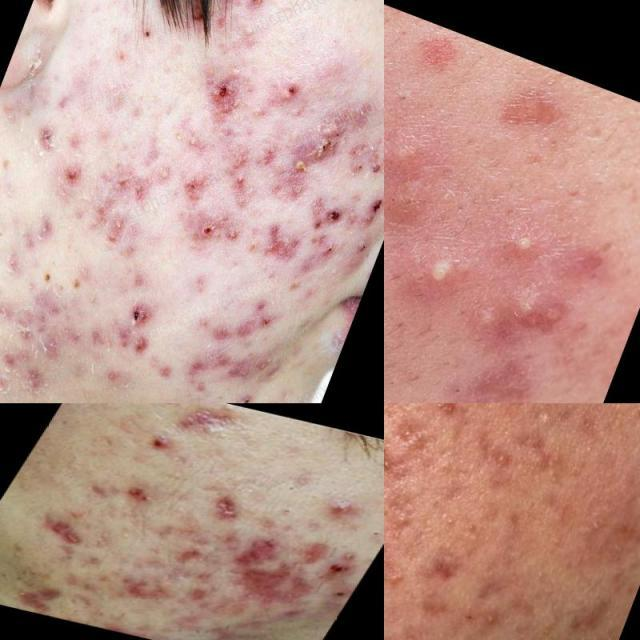Pimples: (270, 83, 376, 202), (55, 161, 157, 271), (172, 327, 292, 403), (202, 272, 296, 358), (5, 281, 84, 364), (491, 284, 585, 352), (240, 212, 320, 290), (110, 288, 180, 371), (478, 217, 554, 289), (228, 560, 314, 620), (409, 238, 466, 304), (170, 404, 258, 446), (416, 534, 473, 596), (108, 566, 182, 610), (158, 533, 228, 577), (289, 530, 345, 578), (225, 528, 285, 572), (202, 486, 256, 530), (28, 510, 88, 548), (466, 438, 521, 479), (265, 471, 323, 504), (76, 472, 130, 506), (427, 364, 473, 403), (17, 582, 69, 616), (270, 72, 304, 122), (262, 504, 312, 534), (414, 403, 476, 426), (384, 82, 419, 116), (0, 552, 30, 586), (355, 516, 384, 548), (128, 404, 192, 418)
